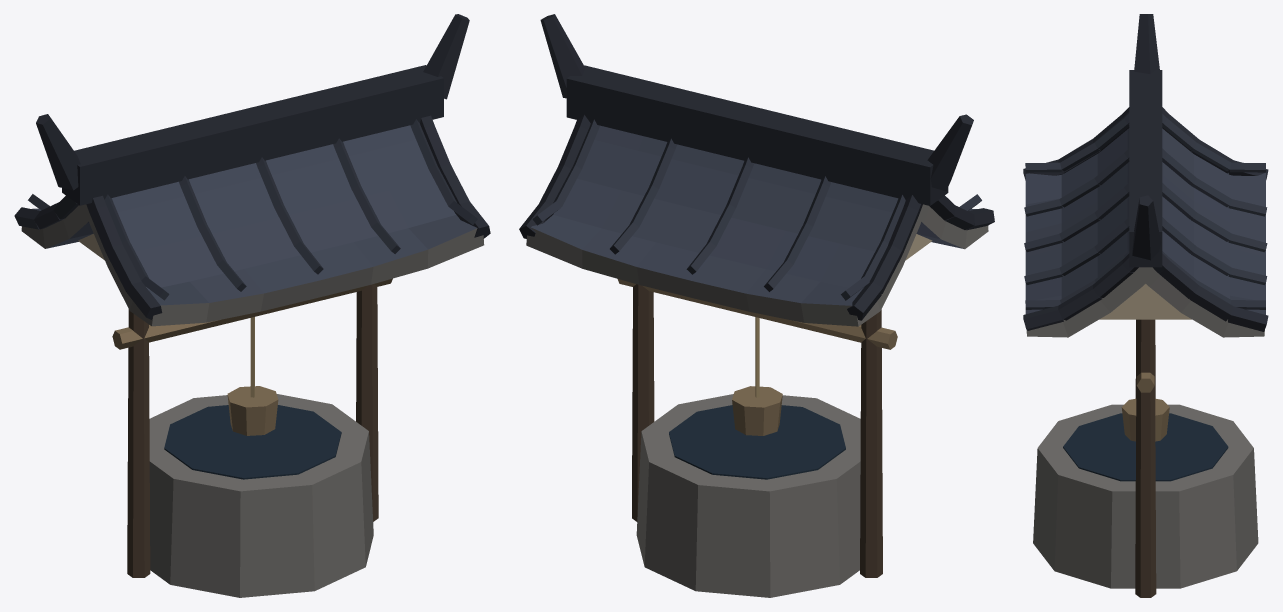
The model's file is well.glb.
3 renders of one model, left to right at view 1: azimuth 30°, elevation 25°; view 2: azimuth 150°, elevation 25°; view 3: azimuth 270°, elevation 25°, orthographic. The views are drawn at different scales.
Visible parts, largest first — view 1: well; view 2: well; view 3: well.
Boxes of the visible parts, bbox=[...] form: well: bbox=[14, 14, 490, 597]; well: bbox=[519, 14, 994, 597]; well: bbox=[1023, 14, 1268, 597].
Bounding box in the file's own units: 3.03 × 3.22 × 1.63.
